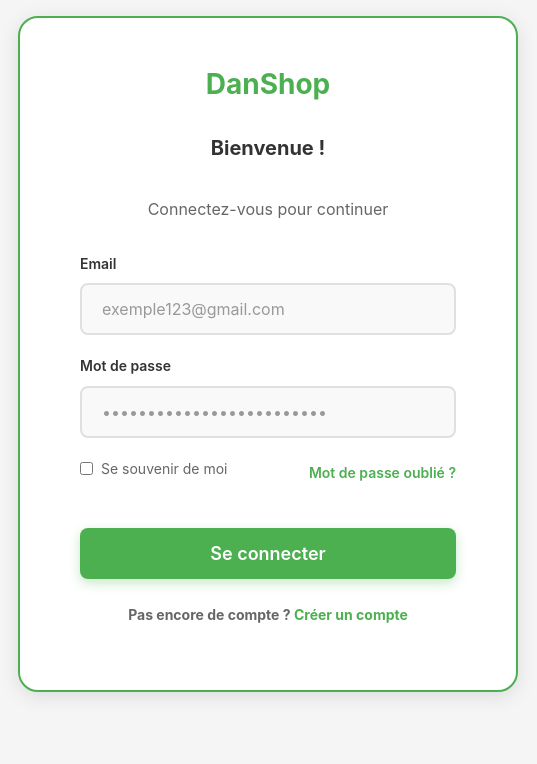
Test: Login - Tests Unitaires › Validation du formulaire › devrait afficher une erreur si le mot de passe n'a pas de majuscule
This screenshot has width=537, height=764.
Step 1. Type "test@example.com" into the field with placeholder "exemple123@gmail.com" → (268, 309), box [102, 299, 434, 319]
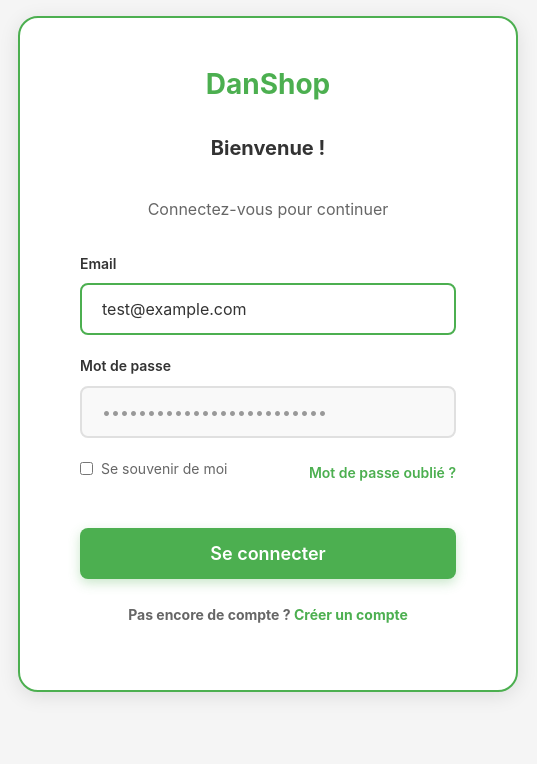
Step 2. Type "password123" into the password field with placeholder "•••••••••••••••••••••••••" → (268, 412), box [102, 402, 434, 422]
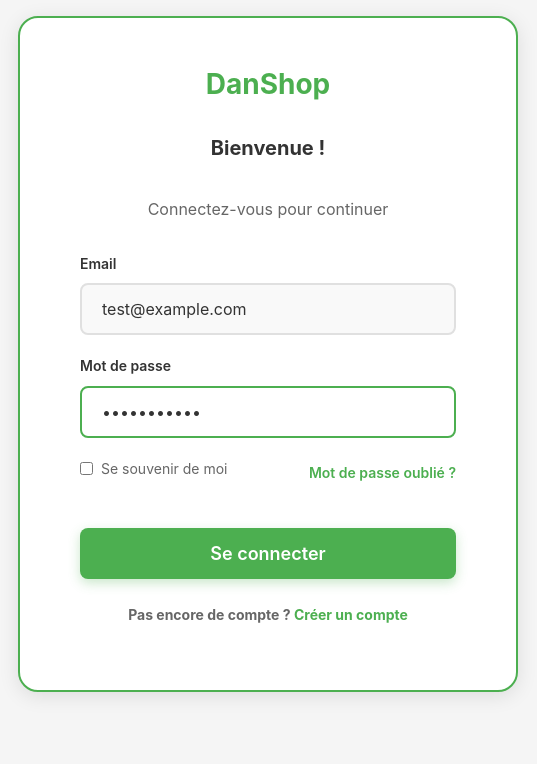
Step 3. Click the button "Se connecter" → (268, 554), box [80, 528, 456, 579]
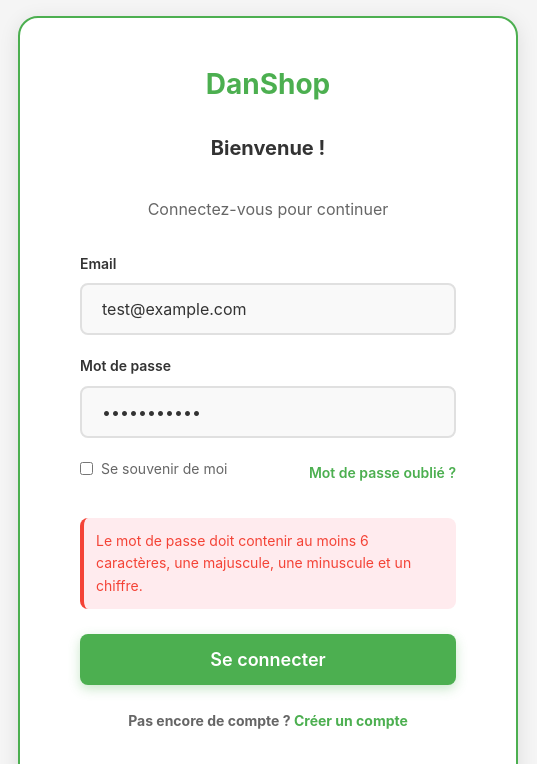
Now the text "Le mot de passe doit contenir" is shown, box [96, 532, 411, 594]
